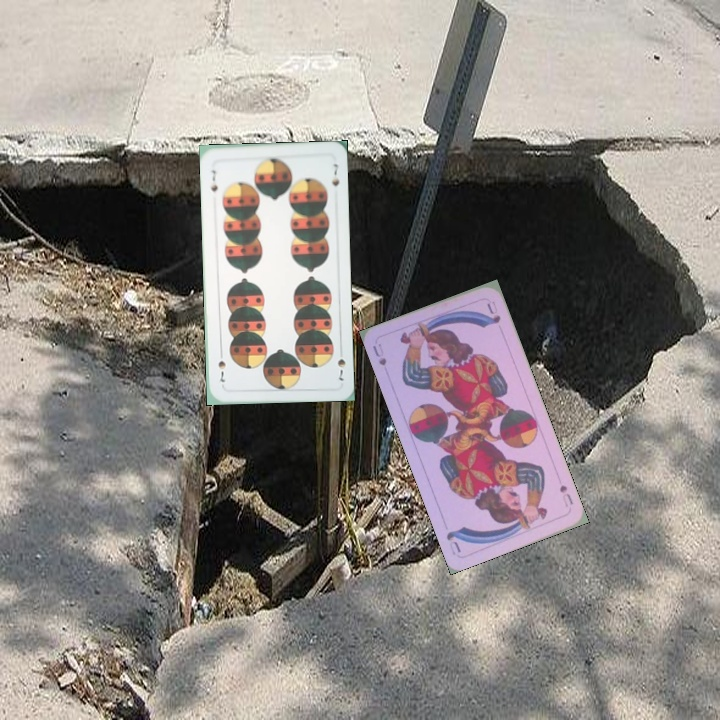S7: (333, 344, 348, 383), (207, 166, 220, 195)
SU: (368, 339, 389, 368), (555, 481, 575, 507)
